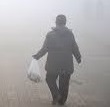person: (33, 14, 83, 105)
